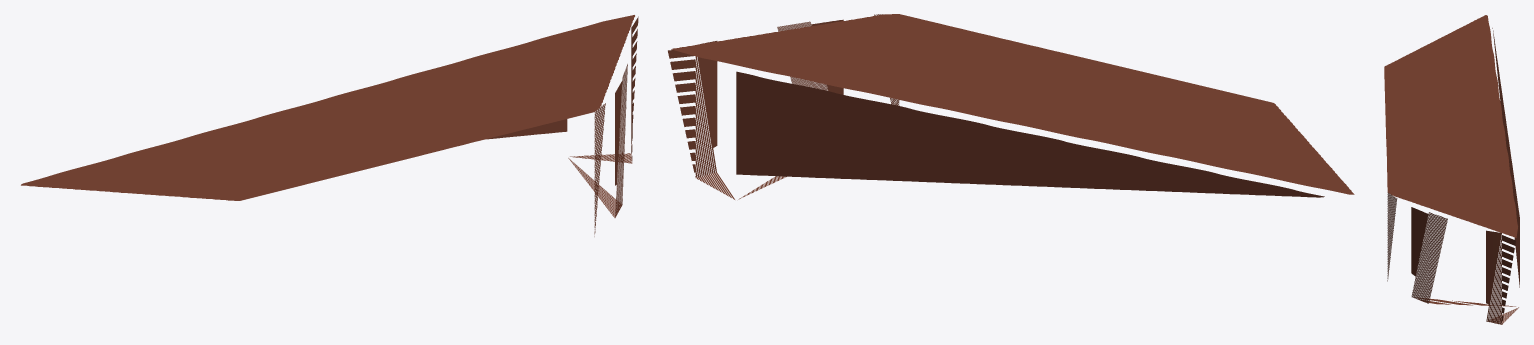
Rendered from boat.FBX.
The picture shows the model from 3 angles, left to right: view 1: azimuth 30°, elevation 25°; view 2: azimuth 150°, elevation 25°; view 3: azimuth 270°, elevation 25°; orthographic projection. The views are drawn at different scales.
Parts seen in each view (by area): view 1: Shape1; view 2: Shape1; view 3: Shape1.
Boxes of the visible parts, x1,y1,x2,y2 form: Shape1: (21,15,638,236); Shape1: (668,14,1354,199); Shape1: (1384,15,1519,324).
Size of the model in its own units: 5.26 by 1 by 1.34.
